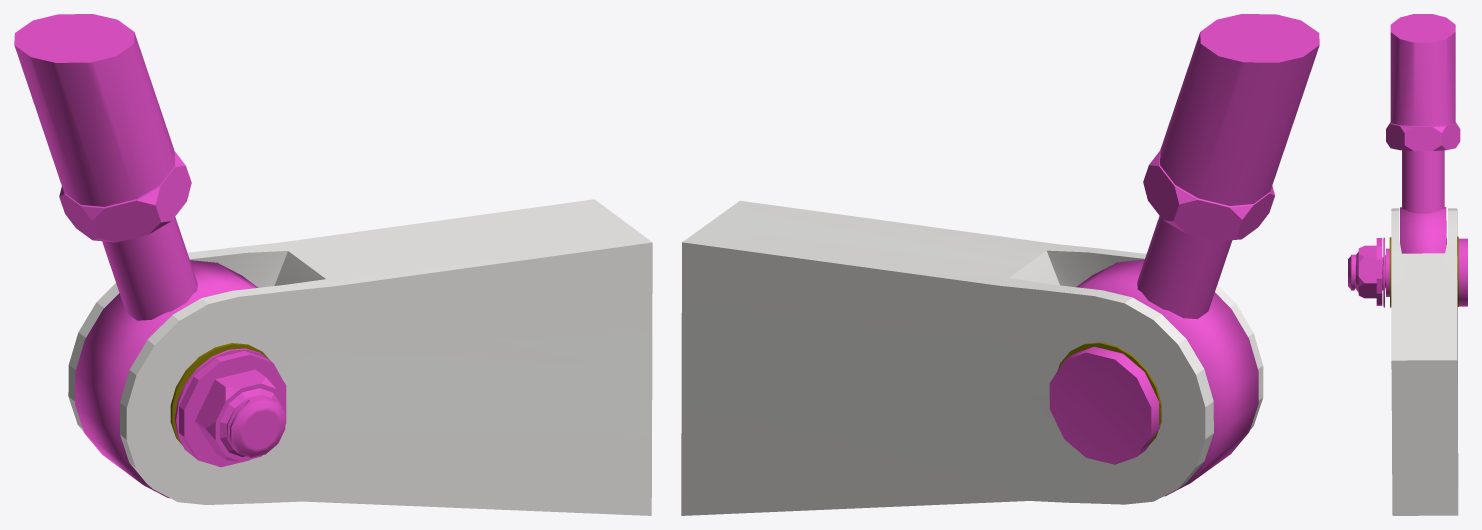
3 views of the same model, side by side, from view 1: azimuth 30°, elevation 25°; view 2: azimuth 150°, elevation 25°; view 3: azimuth 270°, elevation 25° (orthographic). The views are drawn at different scales.
Visible parts, largest first — view 1: [8] LOWER SIDE STRUT, [41] PUSHROD, [42] NUT, [46] BOLT, [43] WASHER; view 2: [8] LOWER SIDE STRUT, [41] PUSHROD, [46] BOLT; view 3: [8] LOWER SIDE STRUT, [41] PUSHROD, [42] NUT, [46] BOLT, [45] BUSHING.
Part boxes in pixels (x1=…): [8] LOWER SIDE STRUT: x1=68, y1=199, x2=652, y2=515; [41] PUSHROD: x1=14, y1=14, x2=258, y2=498; [42] NUT: x1=179, y1=351, x2=286, y2=467; [46] BOLT: x1=227, y1=395, x2=285, y2=457; [43] WASHER: x1=175, y1=348, x2=280, y2=464; [8] LOWER SIDE STRUT: x1=681, y1=200, x2=1263, y2=515; [41] PUSHROD: x1=1076, y1=14, x2=1319, y2=496; [46] BOLT: x1=1049, y1=346, x2=1160, y2=464; [8] LOWER SIDE STRUT: x1=1389, y1=208, x2=1458, y2=515; [41] PUSHROD: x1=1386, y1=14, x2=1460, y2=253; [42] NUT: x1=1355, y1=238, x2=1382, y2=305; [46] BOLT: x1=1348, y1=238, x2=1467, y2=306; [45] BUSHING: x1=1386, y1=248, x2=1389, y2=296.
Bounding box in the file's own units: 12260 × 11519 × 3726.
